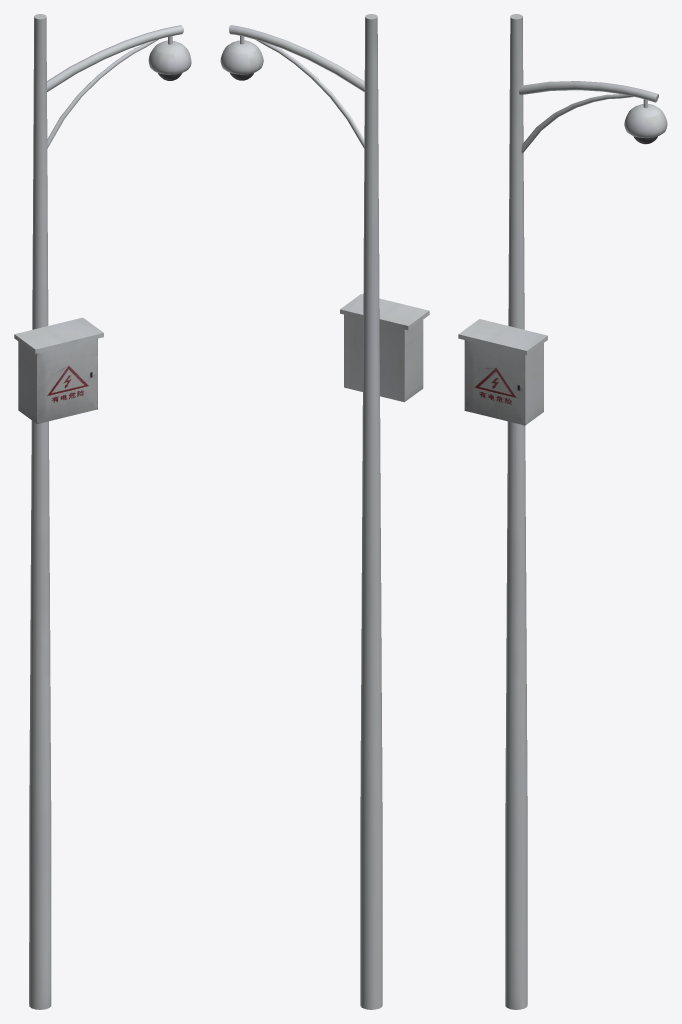
Rendered from camera_180.glb.
3 renders of one model, left to right at view 1: azimuth 30°, elevation 25°; view 2: azimuth 150°, elevation 25°; view 3: azimuth 330°, elevation 25°, orthographic.
Visible parts, largest first — view 1: 监控电子眼_180; view 2: 监控电子眼_180; view 3: 监控电子眼_180.
Part boxes in pixels (<box>): 监控电子眼_180: <box>14,14,191,1009</box>; 监控电子眼_180: <box>220,14,429,1009</box>; 监控电子眼_180: <box>458,14,667,1009</box>.
Size of the model in its own units: 0.9166 by 4.82 by 0.3283.
2 materials, 2 textured.
